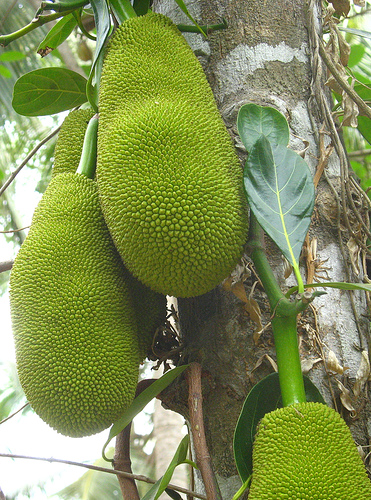jackfruit: (92, 15, 250, 298), (6, 171, 146, 440), (246, 399, 369, 498), (48, 101, 97, 187)
